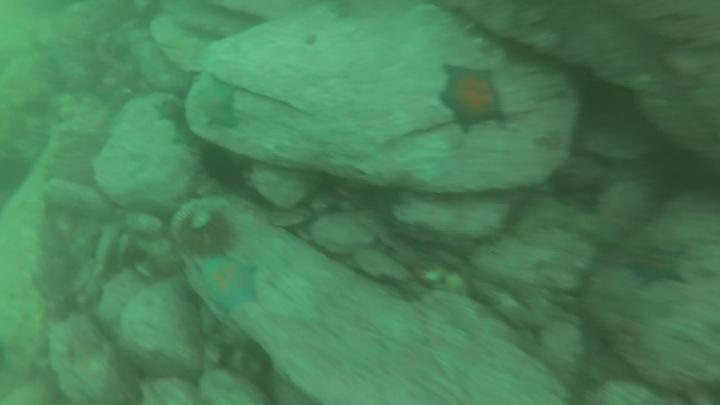echinus: (195, 144, 246, 191)
holothurian: (510, 190, 622, 249)
starfish: (436, 61, 508, 135), (194, 254, 262, 325), (625, 238, 688, 292), (200, 81, 238, 134), (168, 119, 202, 150), (151, 97, 189, 124)
